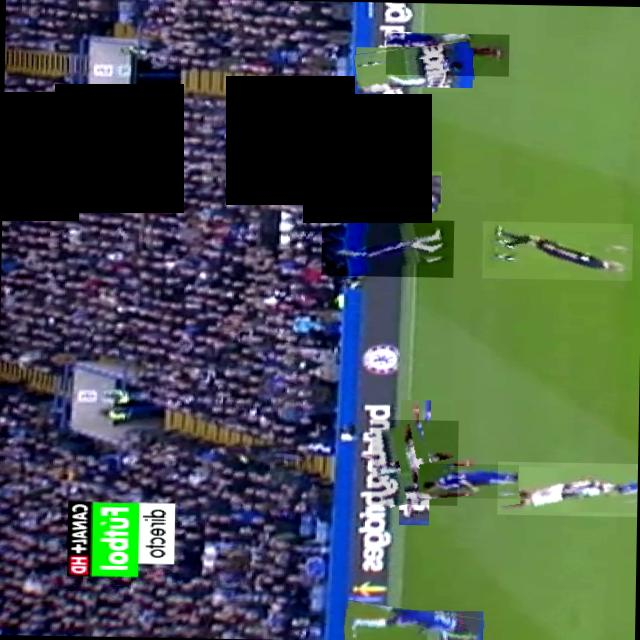ball: (482, 220, 633, 280)
soccer-player: (497, 460, 638, 516), (321, 217, 454, 276), (371, 418, 458, 504), (353, 41, 474, 91), (385, 31, 509, 75), (342, 602, 483, 640), (329, 168, 442, 206), (418, 462, 518, 498)
